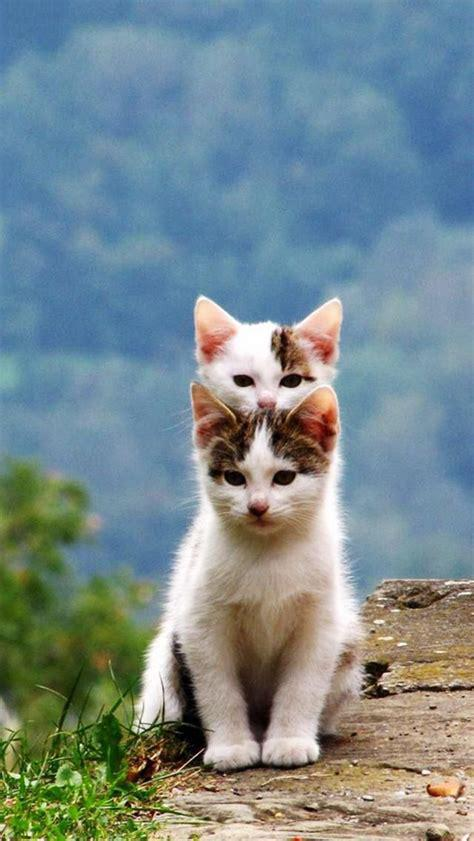cat: (136, 292, 363, 730), (176, 382, 341, 770)
